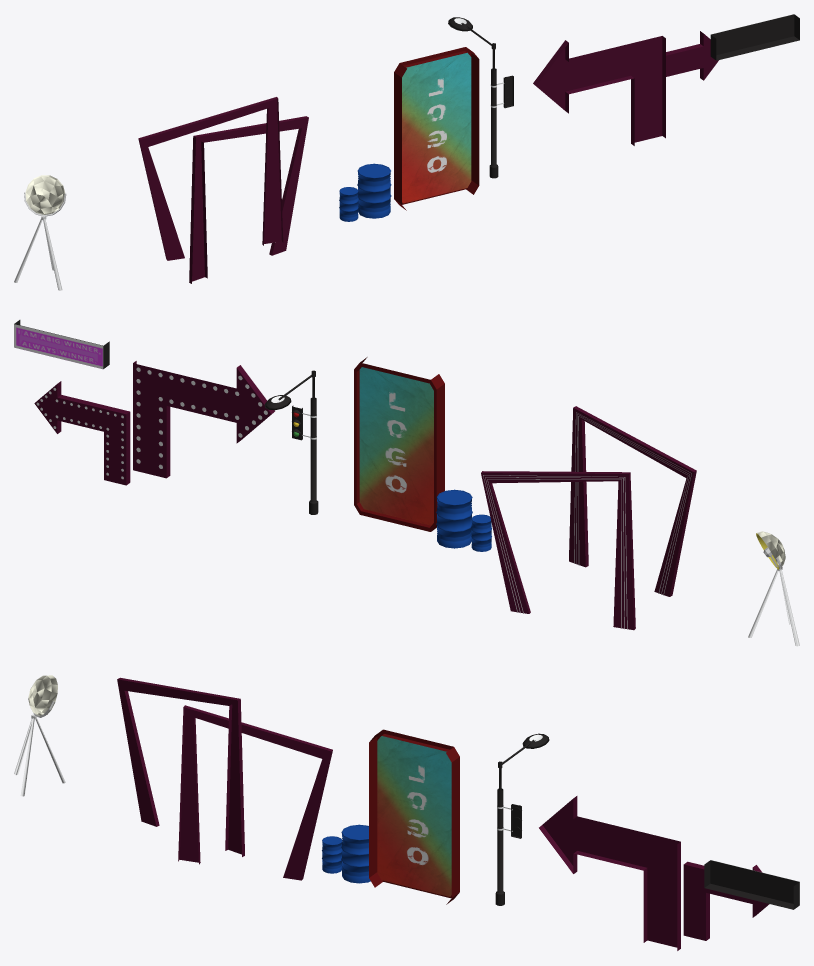
The model's file is M_Tcaihongmen01.FBX.
3 renders of one model, top to bottom at view 1: azimuth 30°, elevation 25°; view 2: azimuth 150°, elevation 25°; view 3: azimuth 330°, elevation 25°, orthographic. The views are drawn at different scales.
Parts seen in each view (by area): view 1: M_Tcaihongmen01_02, M_Tcaihongmen01_06, M_Tcaihongmen01_04; view 2: M_Tcaihongmen01_02, M_Tcaihongmen01_06, M_Tcaihongmen01_04, M_Tcaihongmen01_03, M_Tcaihongmen01_05, M_Tcaihongmen01_08; view 3: M_Tcaihongmen01_02, M_Tcaihongmen01_06, M_Tcaihongmen01_04.
Boxes of the visible parts, left/top/right/bottom form: M_Tcaihongmen01_02: left=14, top=14, right=799, bottom=290; M_Tcaihongmen01_06: left=402, top=52, right=471, bottom=203; M_Tcaihongmen01_04: left=339, top=163, right=391, bottom=221; M_Tcaihongmen01_02: left=14, top=320, right=799, bottom=646; M_Tcaihongmen01_06: left=359, top=367, right=433, bottom=525; M_Tcaihongmen01_04: left=436, top=489, right=491, bottom=551; M_Tcaihongmen01_03: left=483, top=412, right=691, bottom=629; M_Tcaihongmen01_05: left=14, top=324, right=103, bottom=369; M_Tcaihongmen01_08: left=36, top=367, right=267, bottom=479; M_Tcaihongmen01_02: left=14, top=675, right=799, bottom=950; M_Tcaihongmen01_06: left=377, top=736, right=451, bottom=896; M_Tcaihongmen01_04: left=322, top=824, right=370, bottom=883.
Size of the model in its own units: 26.78 by 6.08 by 3.52.
